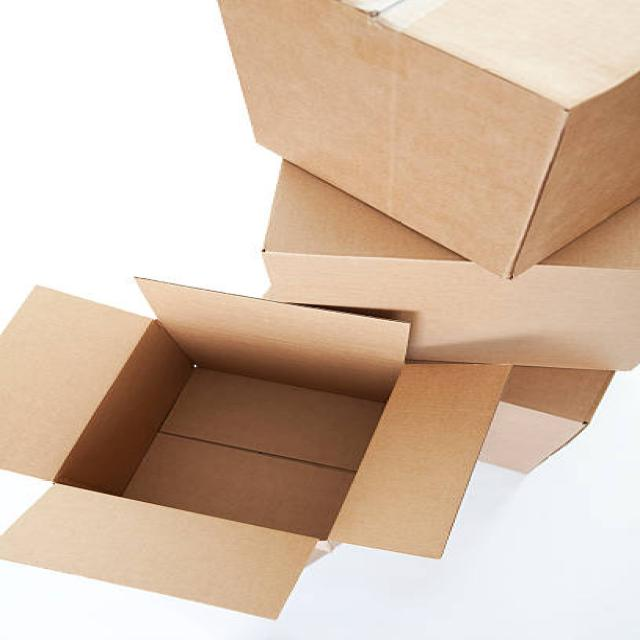electronic: (0, 276, 513, 620), (215, 0, 638, 252), (259, 158, 638, 371), (0, 478, 329, 620)
